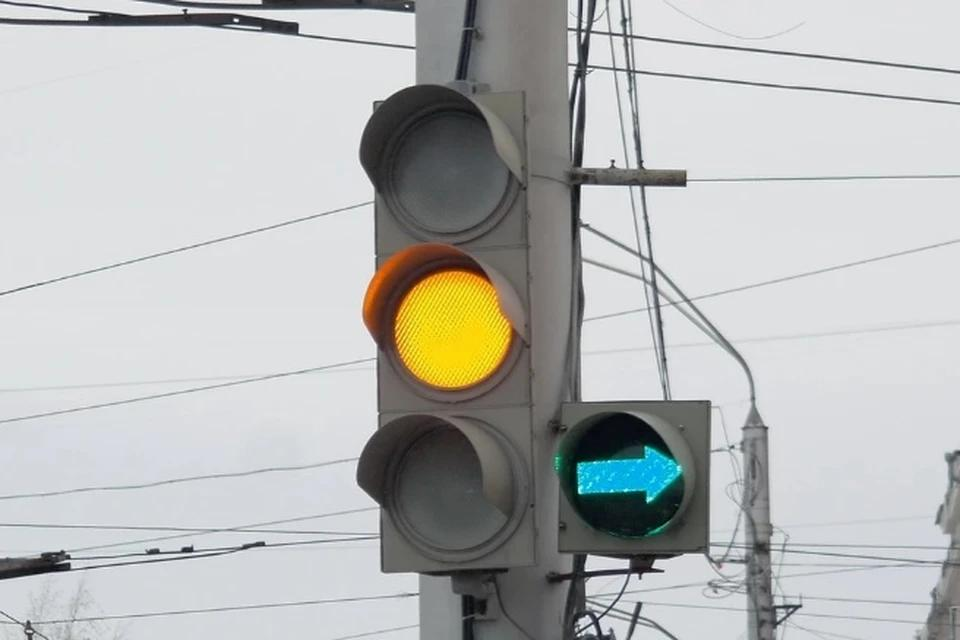traffic light: (357, 83, 715, 573)
